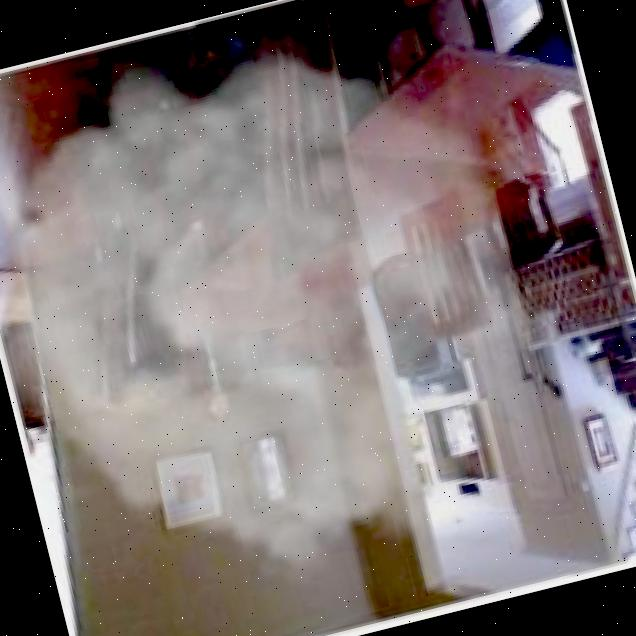smoke: (0, 0, 577, 636)
